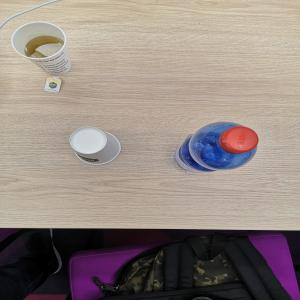Cup: (12, 22, 73, 77), (70, 128, 123, 167)
Plastic-bottle: (175, 122, 260, 175)
